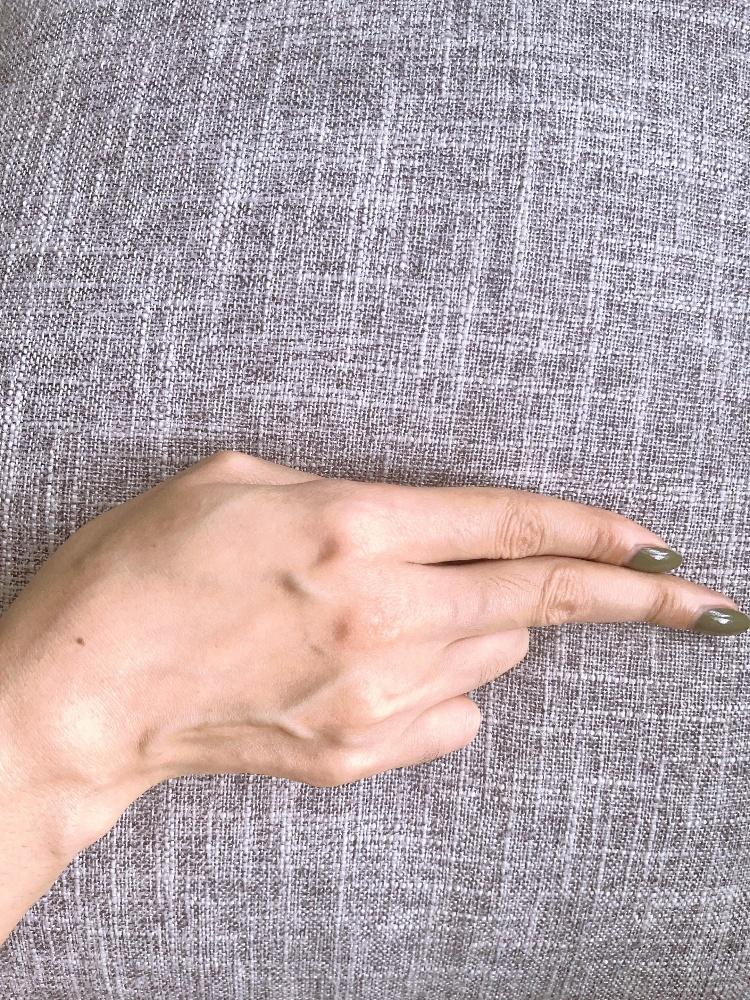h: (51, 445, 748, 794)
